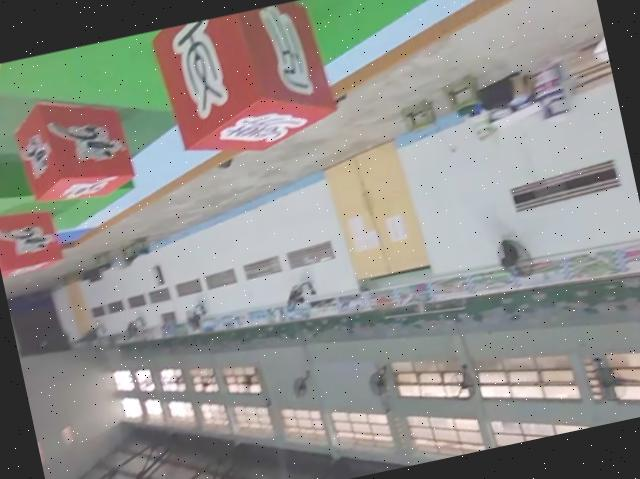R1: (10, 82, 138, 211), (0, 205, 66, 282)
R2 Fake: (145, 0, 344, 171)
